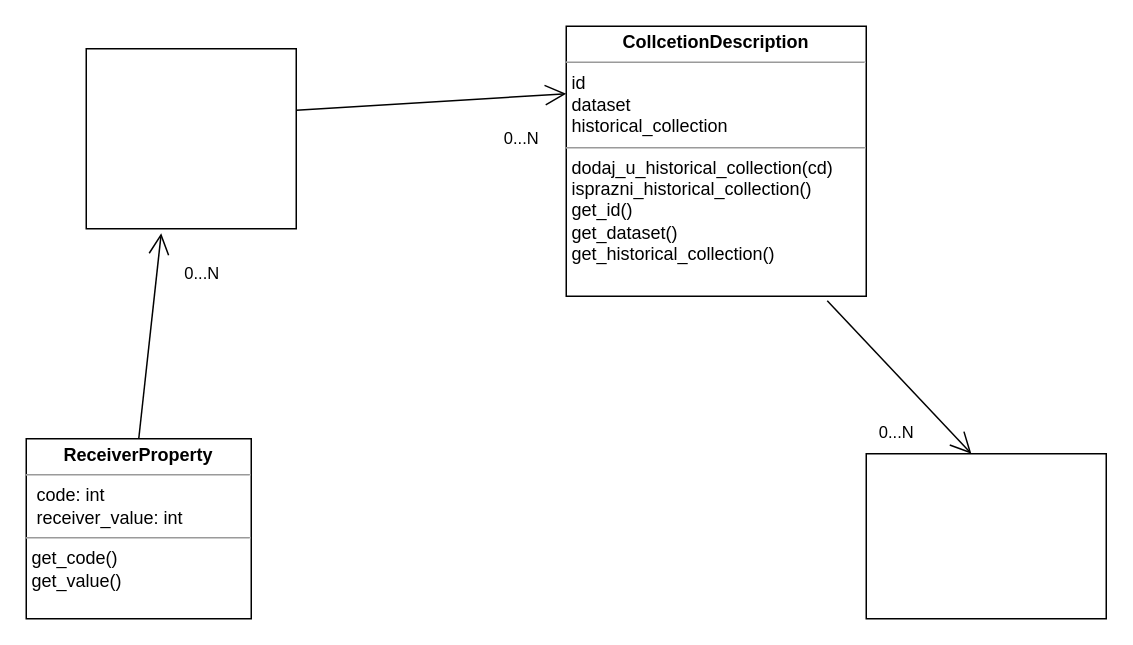
This 1133x645 diagram has some shape labels left out. Each missing label, with the box of its shape:
DeltaCD add_list update_list dodaj_novi(cd) azuriraj_postojeci(cd): (865, 452, 1106, 619)
HistoricalCollection niz_receiver_property dodaj(a) isprazni() get_niz(): (85, 47, 296, 229)
